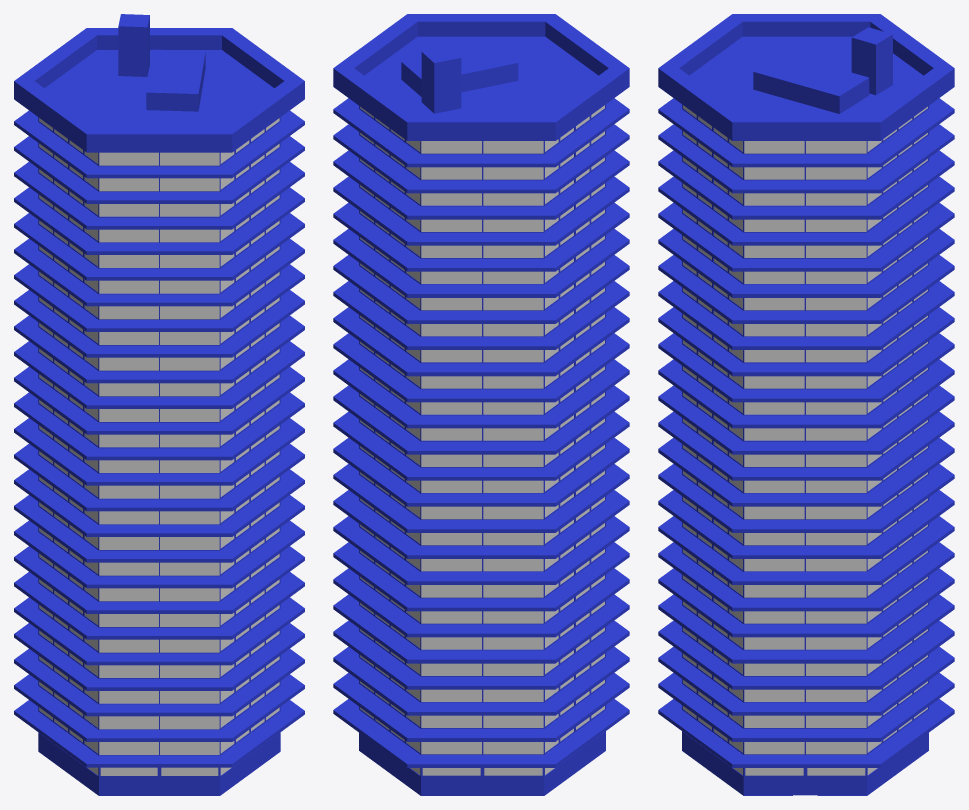
Rendered from building4.fbx.
3 renders of one model, left to right at view 1: azimuth 30°, elevation 25°; view 2: azimuth 150°, elevation 25°; view 3: azimuth 270°, elevation 25°, orthographic.
Parts seen in each view (by area): view 1: BUILDING; view 2: BUILDING; view 3: BUILDING.
Part boxes in pixels (x1,y1,x2,y2): BUILDING: (14,14,304,795); BUILDING: (333,14,629,795); BUILDING: (658,14,954,795).
Bounding box in the file's own units: 31.18 × 96.29 × 36.
